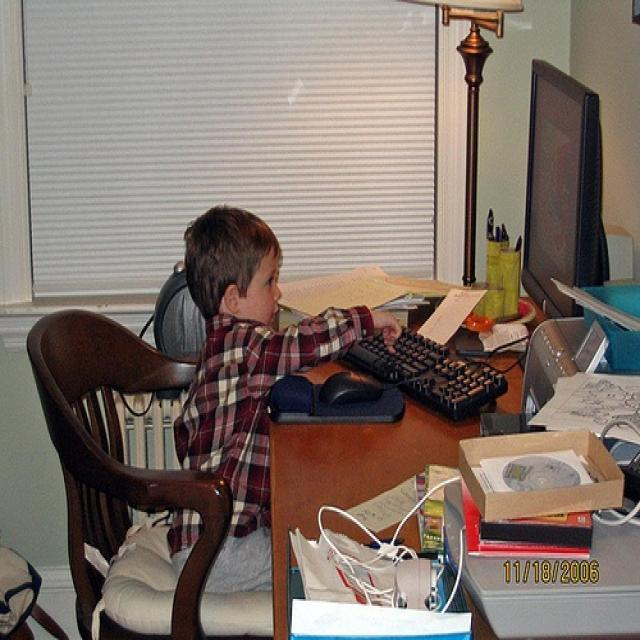chair: (20, 311, 272, 638)
tvmonitor: (521, 58, 612, 319)
